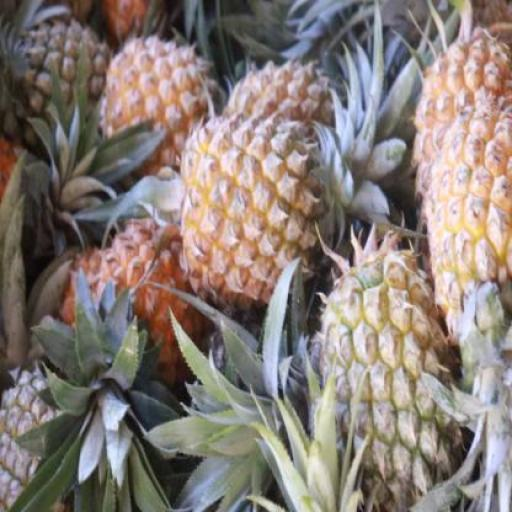------------------------------: (318, 247, 470, 506)
Pineapple - v8 v1: (184, 112, 322, 292), (70, 228, 212, 401), (426, 112, 512, 346), (98, 36, 216, 164)
